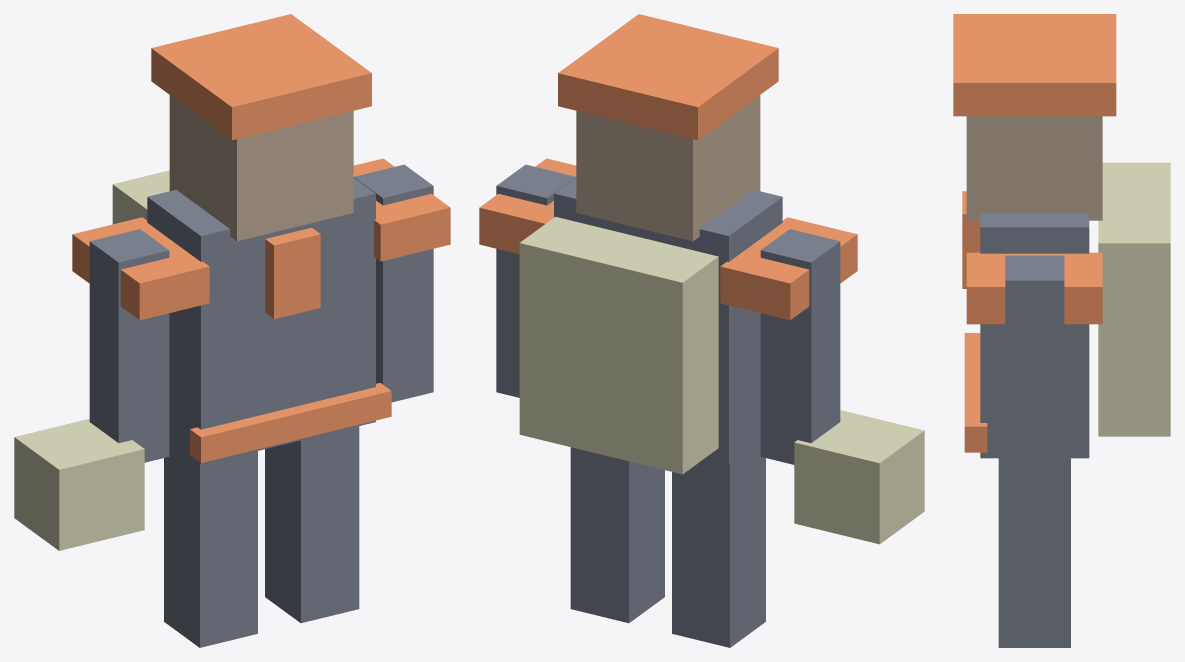
The model's file is 14_luma_rootborne_runner_from_crater.glb.
3 renders of one model, left to right at view 1: azimuth 30°, elevation 25°; view 2: azimuth 150°, elevation 25°; view 3: azimuth 270°, elevation 25°, orthographic.
Visible parts, largest first — view 1: Luma Rootborne, Runner from Crater; view 2: Luma Rootborne, Runner from Crater; view 3: Luma Rootborne, Runner from Crater.
Part boxes in pixels (x1,y1,x2,y2): Luma Rootborne, Runner from Crater: [14, 14, 450, 647]; Luma Rootborne, Runner from Crater: [479, 14, 924, 647]; Luma Rootborne, Runner from Crater: [953, 14, 1170, 647].
Bounding box in the file's own units: 1.05 × 1.44 × 0.5063.
